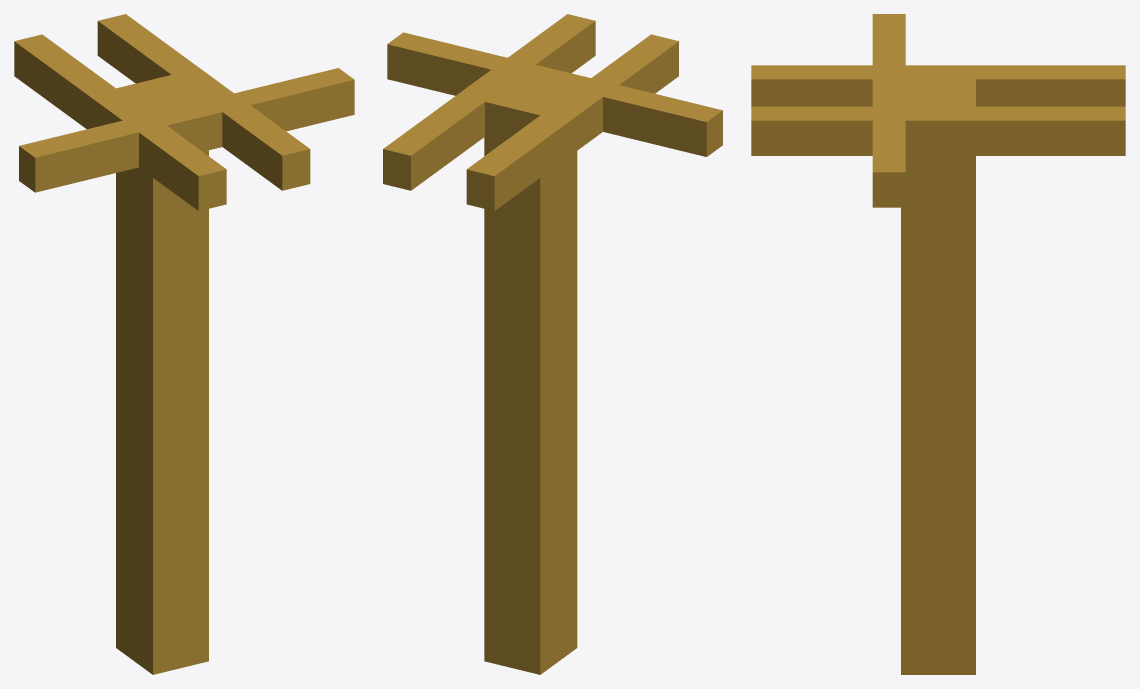
File: right_top_bottom.glb
3 views of the same model, side by side, from view 1: azimuth 30°, elevation 25°; view 2: azimuth 150°, elevation 25°; view 3: azimuth 270°, elevation 25° (orthographic).
Parts seen in each view (by area): view 1: Maxis-3d2-mesh-50.001; view 2: Maxis-3d2-mesh-50.001; view 3: Maxis-3d2-mesh-50.001.
Part boxes in pixels (bbox=[...]): Maxis-3d2-mesh-50.001: bbox=[14, 14, 354, 674]; Maxis-3d2-mesh-50.001: bbox=[383, 14, 722, 674]; Maxis-3d2-mesh-50.001: bbox=[751, 14, 1125, 674].
Bounding box in the file's own units: 4.78 × 8 × 4.78.
